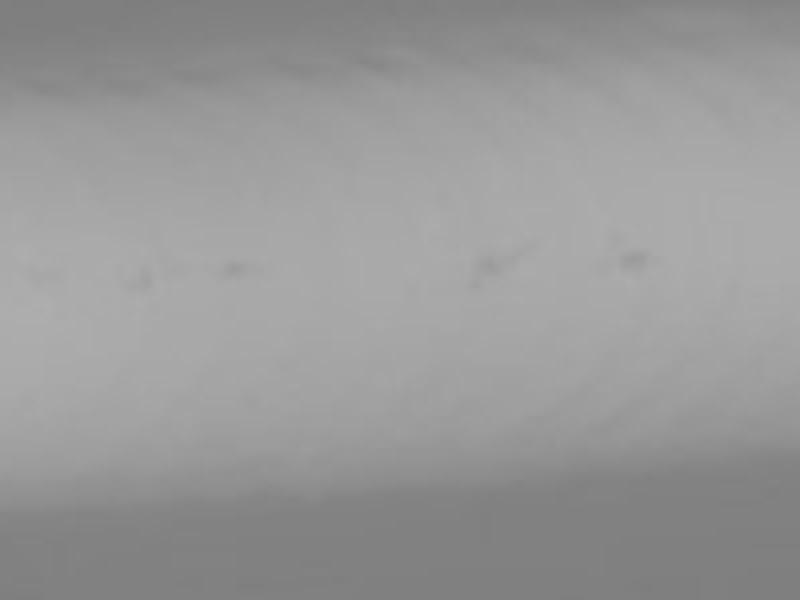defect: (474, 244, 520, 286), (617, 249, 664, 280), (122, 264, 156, 297), (223, 258, 246, 283)
